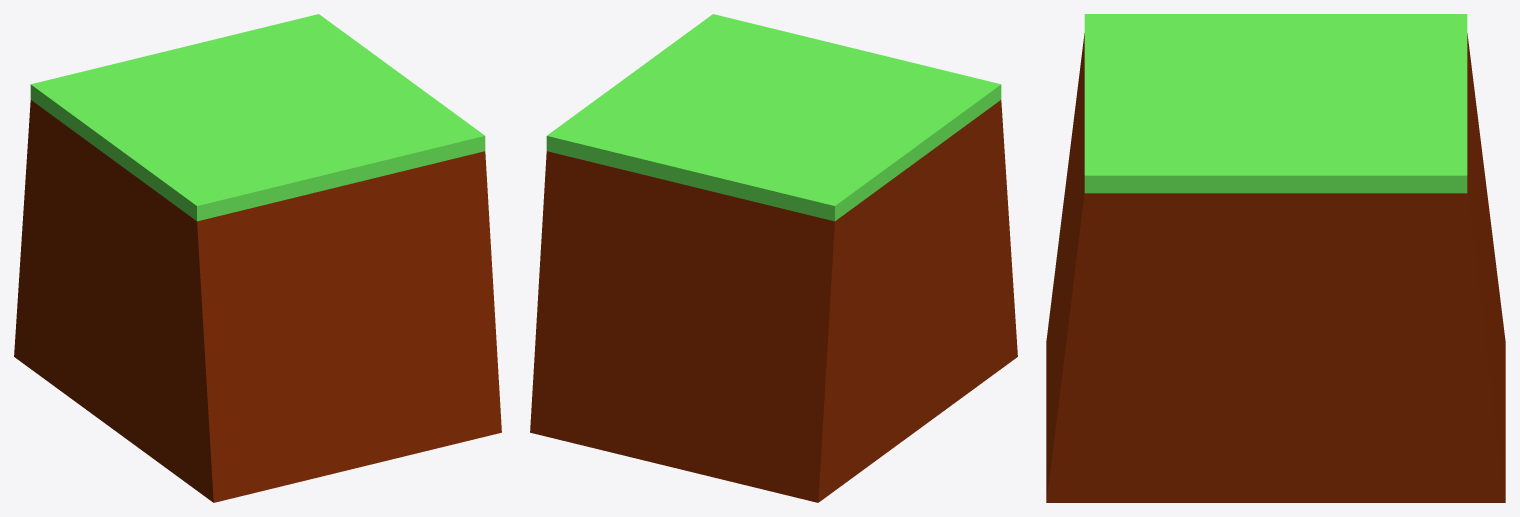
Rendered from escenarioTestDerecha5L.fbx.
3 views of the same model, side by side, from view 1: azimuth 30°, elevation 25°; view 2: azimuth 150°, elevation 25°; view 3: azimuth 270°, elevation 25° (orthographic). The views are drawn at different scales.
Visible parts, largest first — view 1: Cube.012; view 2: Cube.012; view 3: Cube.012.
Boxes of the visible parts, box(x1,y1,x2,y2) form: Cube.012: box(14, 14, 501, 502); Cube.012: box(530, 14, 1017, 502); Cube.012: box(1046, 14, 1505, 502).
Size of the model in its own units: 2377 by 2244 by 2853.
